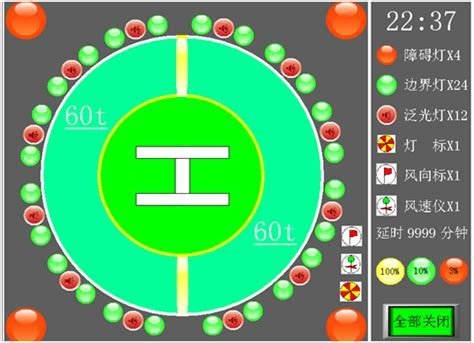H: (134, 145, 229, 205)
